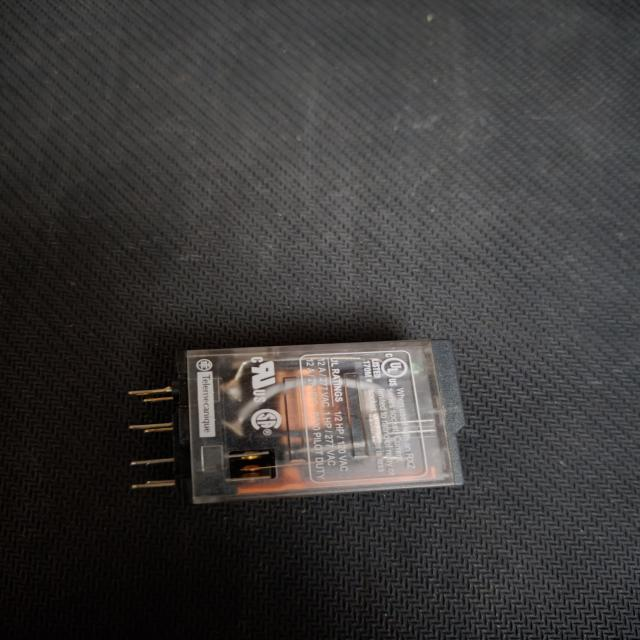relay: (109, 327, 479, 518)
